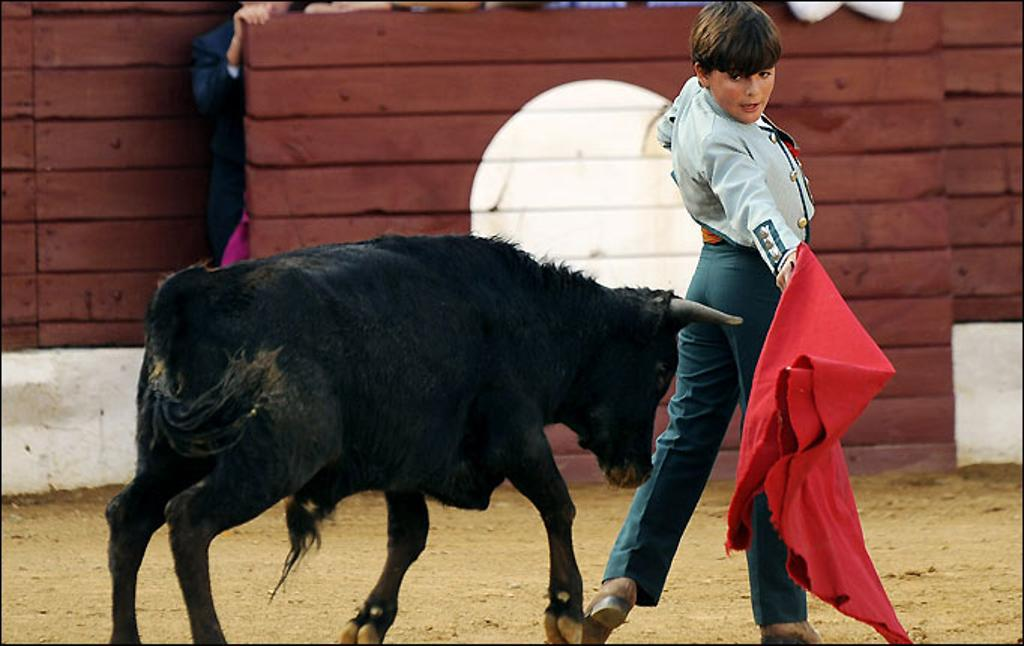face: (709, 33, 777, 123)
